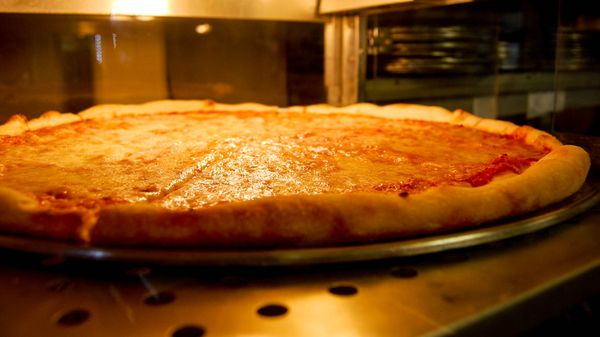sandwich: (0, 96, 596, 250)
